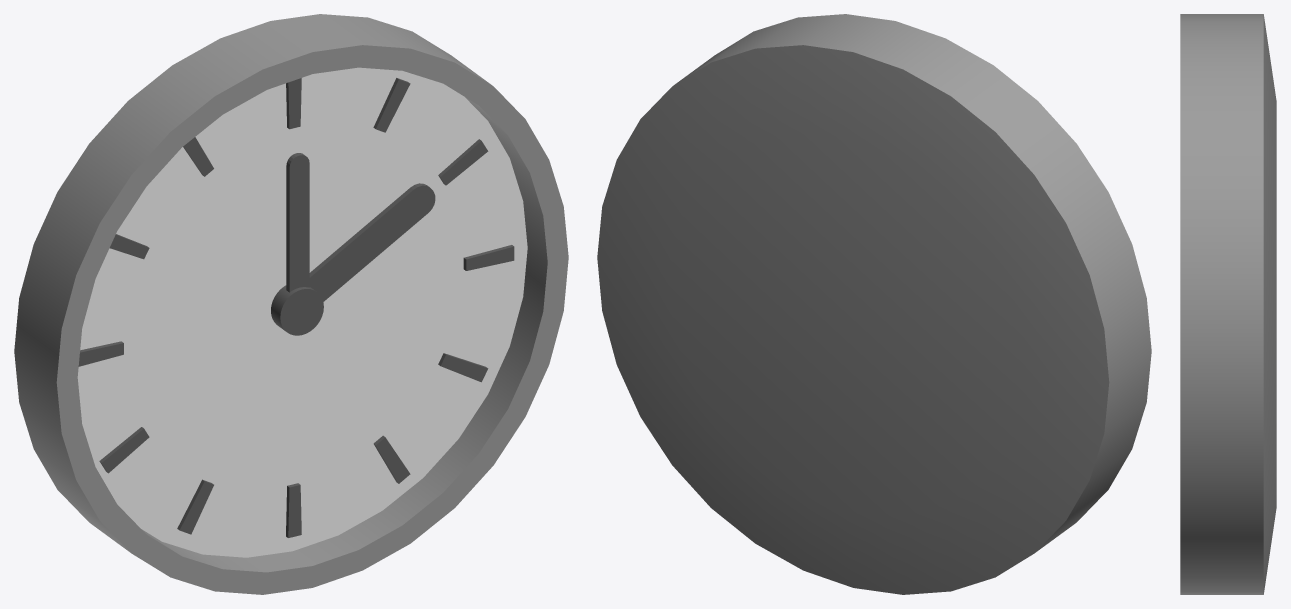
The model's file is two_oclock.glb.
3 views of the same model, side by side, from view 1: azimuth 30°, elevation 25°; view 2: azimuth 150°, elevation 25°; view 3: azimuth 270°, elevation 25° (orthographic).
Parts seen in each view (by area): view 1: Circle.2441; view 2: Circle.2441; view 3: Circle.2441.
Boxes of the visible parts, bbox=[...] form: Circle.2441: bbox=[14, 14, 568, 594]; Circle.2441: bbox=[597, 14, 1151, 594]; Circle.2441: bbox=[1180, 14, 1276, 594].
Size of the model in its own units: 2.33 by 2.33 by 0.387.
Materials: 1 (1 with a texture image).
